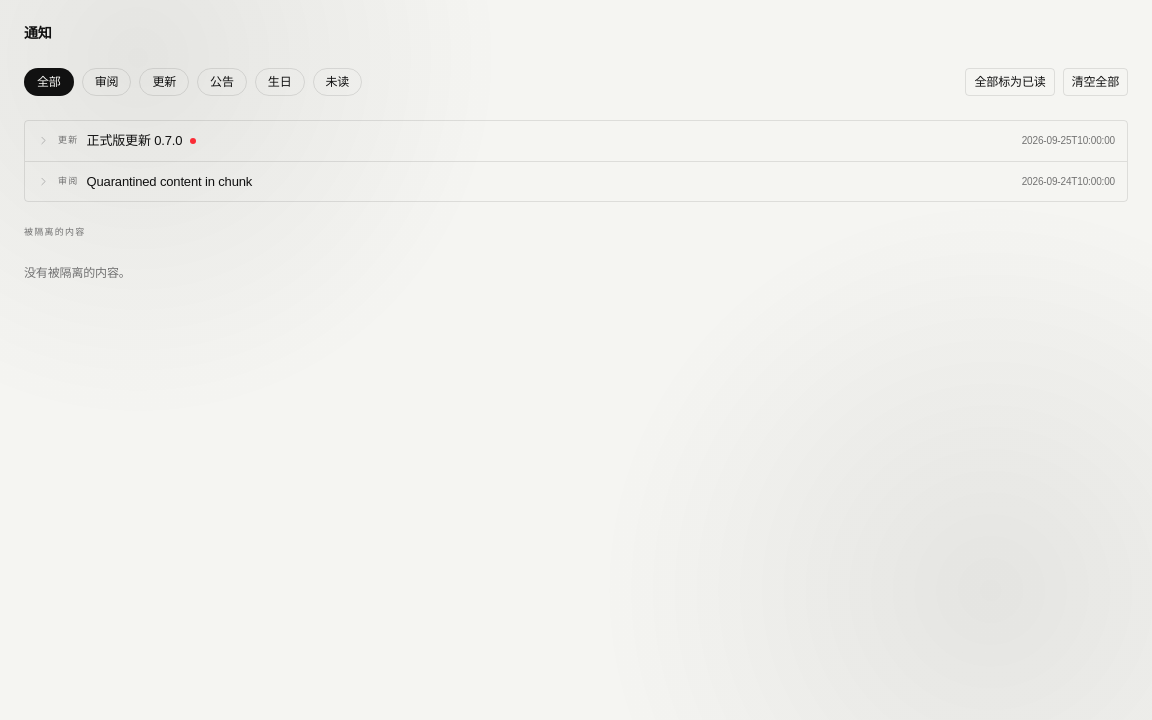
Test: Notifications feed › filters to unread only
Step 1. Click the button with test id "filter-unread" → (337, 82), box 312,68 -> 362,96
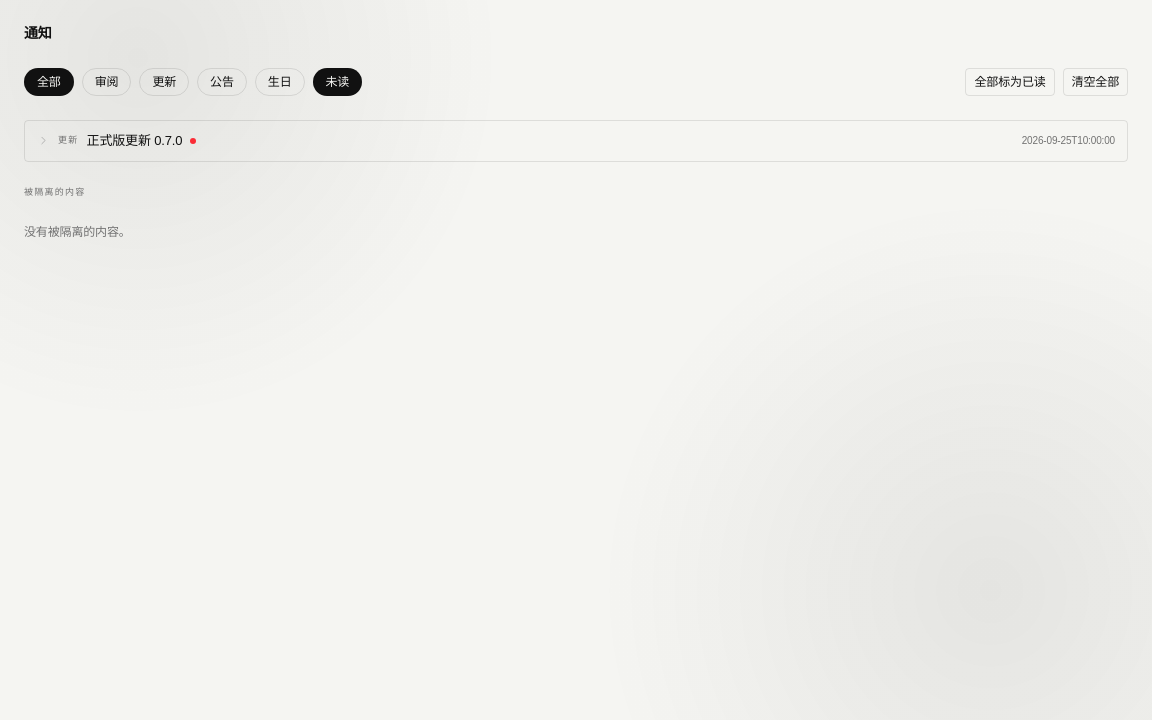
Expected: the list item with test id "notification-2" is gone
